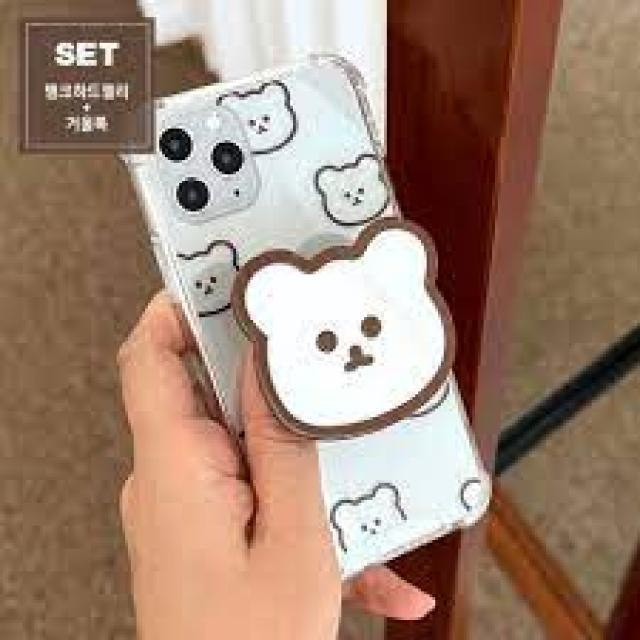Phone: (116, 59, 493, 584)
